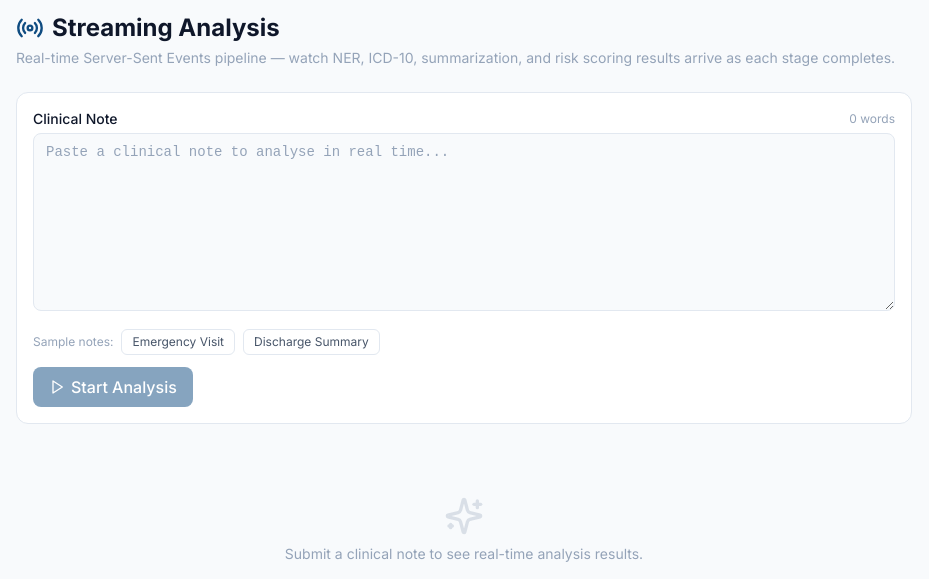
Scenario: StreamingAnalysis — word count › updates word count when text is entered
Type "Patient has hypertension and diabetes" into the text box named "Clinical text input".
click(464, 222); type("Patient has hypertension and diabetes")  # box [33,133,895,311]
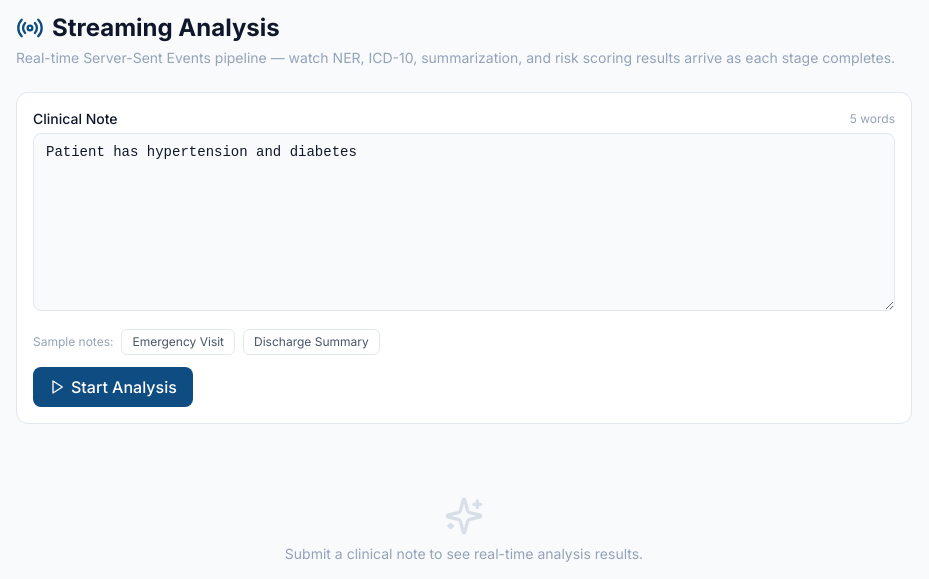
Now the text "5 words" is shown, box [850,111,895,127]
